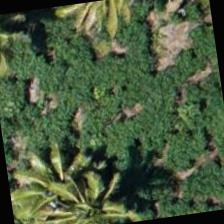Kelapa_Sawit: (11, 156, 112, 223)
